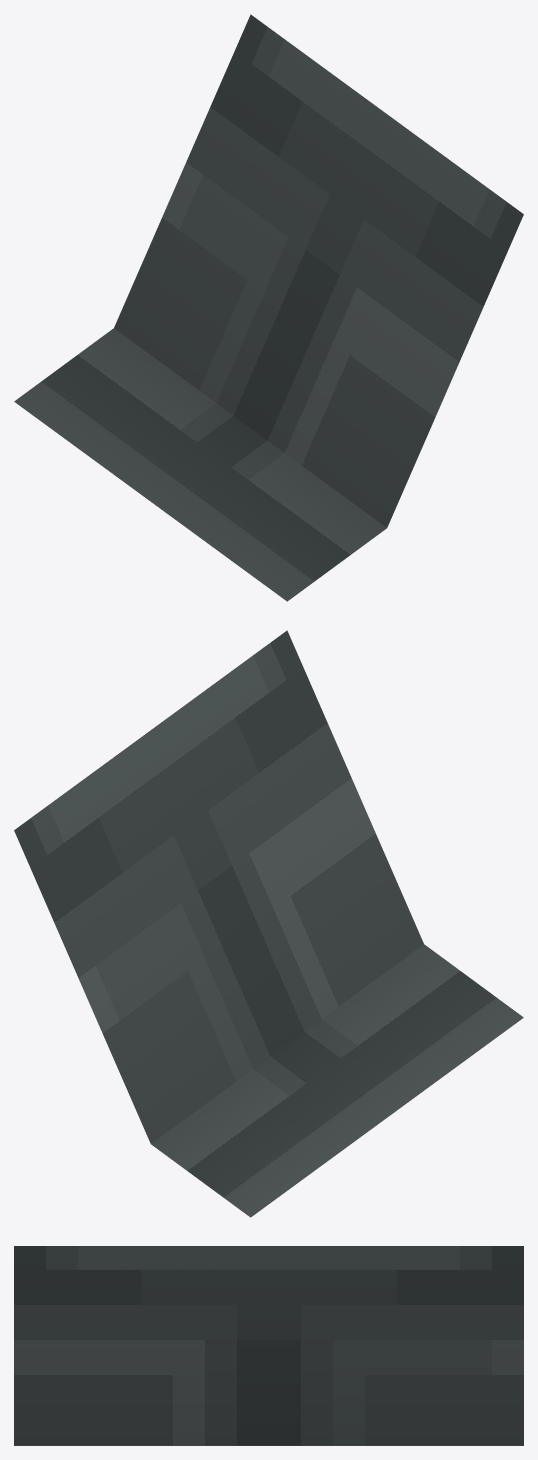
The picture shows the model from 3 angles, top to bottom: view 1: azimuth 30°, elevation 25°; view 2: azimuth 150°, elevation 25°; view 3: azimuth 270°, elevation 25°; orthographic projection. The views are drawn at different scales.
Size of the model in its own units: 0.5 by 0.6652 by 1.
Materials: 1 (1 with a texture image).
